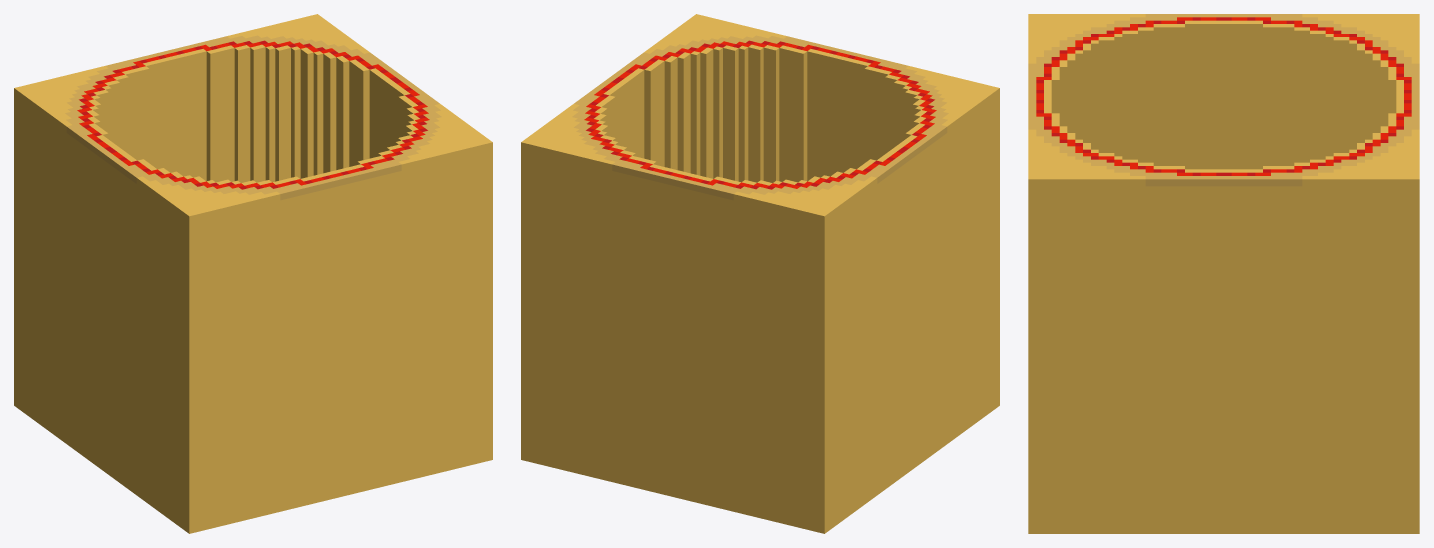
File: holle new.obj
3 views of the same model, side by side, from view 1: azimuth 30°, elevation 25°; view 2: azimuth 150°, elevation 25°; view 3: azimuth 270°, elevation 25° (orthographic). The views are drawn at different scales.
Size of the model in its own units: 5 by 5 by 5.
Materials: 1 (1 with a texture image).
